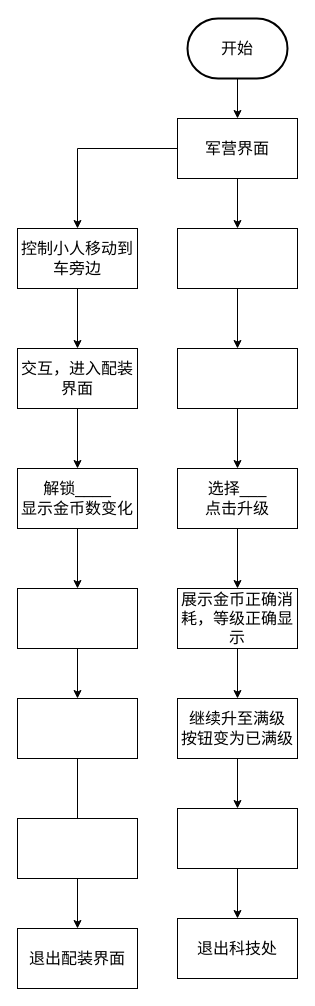
This 315x1006 diagram has some shape labels left out. Here are the shapes that lost their labels. From the top down, the centre of each, then its label:
At (237,258): "控制小人移动到科技处旁边".
At (237,378): "交互，进入科技处界面".
At (77,618): "选中配件 预览装备配件后车辆属性的改变".
At (77,728): "装备配件 显示车辆属性改变".
At (237,838): "点击按钮，无法升级".
